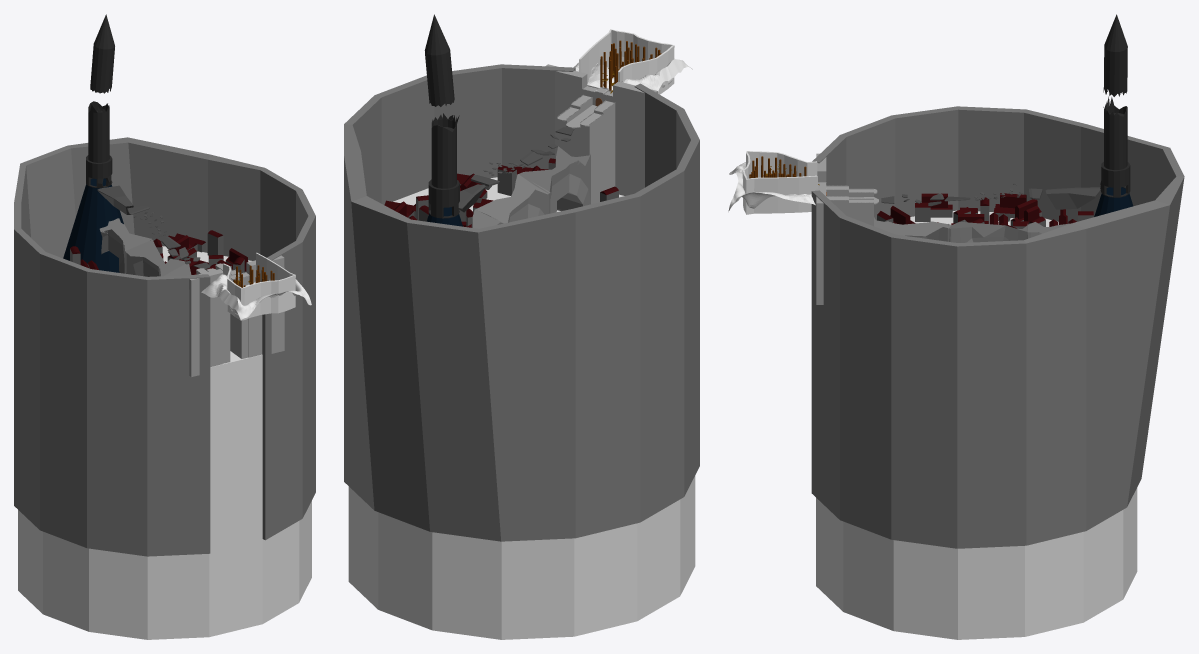
File: level.fbx
3 renders of one model, left to right at view 1: azimuth 30°, elevation 25°; view 2: azimuth 150°, elevation 25°; view 3: azimuth 270°, elevation 25°, orthographic. The views are drawn at different scales.
Parts seen in each view (by area): view 1: Cylinder.007, Cylinder.005, Tower, Tower Base, TERRAIN BORDER, Cube.001, Cube.058, Cube.002, Plane, Cube.057, Cube.017, BrokenBridgeCBrokenBridgeuBrokenBridgebBrokenBridgeeBrokenB. (+1 smaller); view 2: Cylinder.007, Cylinder.005, Tower, Cube.001, TERRAIN BORDER, Cube.059, Cube.058, Cube.018, Plane, Cube.016, Cube.002, Cube.007 (+1 smaller); view 3: Cylinder.007, Cylinder.005, Tower, TERRAIN BORDER, Cube.058, Cube.059, Plane, BrokenBridgeCBrokenBridgeuBrokenBridgebBrokenBridgeeBrokenB., Cube.002, Cube.019, Tower Base.
Boxes of the visible parts, x1=… form: Cylinder.007: x1=14, y1=137, x2=315, y2=556; Cylinder.005: x1=18, y1=246, x2=311, y2=639; Tower: x1=86, y1=14, x2=114, y2=188; Tower Base: x1=63, y1=178, x2=123, y2=272; TERRAIN BORDER: x1=223, y1=252, x2=295, y2=320; Cube.001: x1=189, y1=279, x2=232, y2=376; Cube.058: x1=124, y1=239, x2=185, y2=276; Cube.002: x1=238, y1=268, x2=284, y2=357; Plane: x1=201, y1=274, x2=311, y2=320; Cube.057: x1=99, y1=218, x2=152, y2=273; Cube.017: x1=230, y1=270, x2=248, y2=358; BrokenBridgeCBrokenBridgeuBrokenBridgebBrokenBridgeeBrokenB.: x1=97, y1=185, x2=133, y2=214; Cylinder.007: x1=344, y1=64, x2=699, y2=541; Cylinder.005: x1=348, y1=177, x2=695, y2=639; Tower: x1=424, y1=14, x2=459, y2=218; Cube.001: x1=603, y1=91, x2=644, y2=195; TERRAIN BORDER: x1=579, y1=29, x2=674, y2=94; Cube.059: x1=516, y1=146, x2=590, y2=213; Cube.058: x1=475, y1=174, x2=550, y2=223; Cube.018: x1=580, y1=113, x2=606, y2=204; Plane: x1=573, y1=56, x2=692, y2=91; Cube.016: x1=594, y1=101, x2=615, y2=189; Cube.002: x1=555, y1=83, x2=597, y2=158; Cube.007: x1=613, y1=81, x2=657, y2=105; Cylinder.007: x1=811, y1=106, x2=1184, y2=548; Cylinder.005: x1=816, y1=210, x2=1137, y2=639; Tower: x1=1100, y1=14, x2=1130, y2=197; TERRAIN BORDER: x1=742, y1=151, x2=817, y2=214; Cube.058: x1=948, y1=219, x2=1027, y2=242; Cube.059: x1=874, y1=217, x2=950, y2=241; Plane: x1=728, y1=162, x2=815, y2=211; BrokenBridgeCBrokenBridgeuBrokenBridgebBrokenBridgeeBrokenB.: x1=1045, y1=187, x2=1100, y2=209; Cube.002: x1=816, y1=214, x2=823, y2=304; Cube.019: x1=842, y1=199, x2=877, y2=226; Tower Base: x1=1094, y1=187, x2=1133, y2=216.
Bounding box in the file's own units: 7486 × 13990 × 10294.
